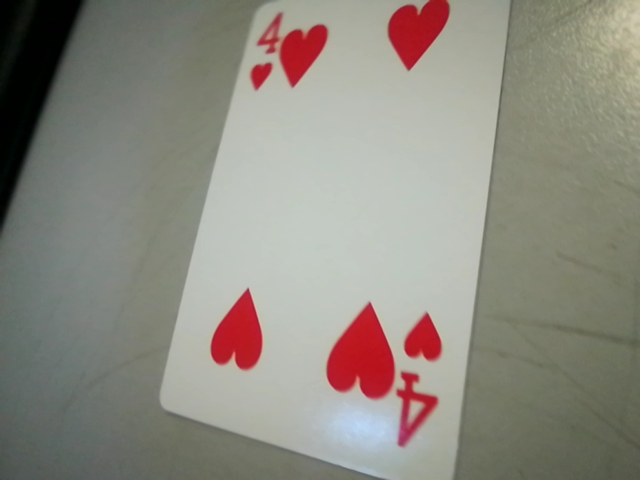hx 4: (387, 297, 459, 460)
